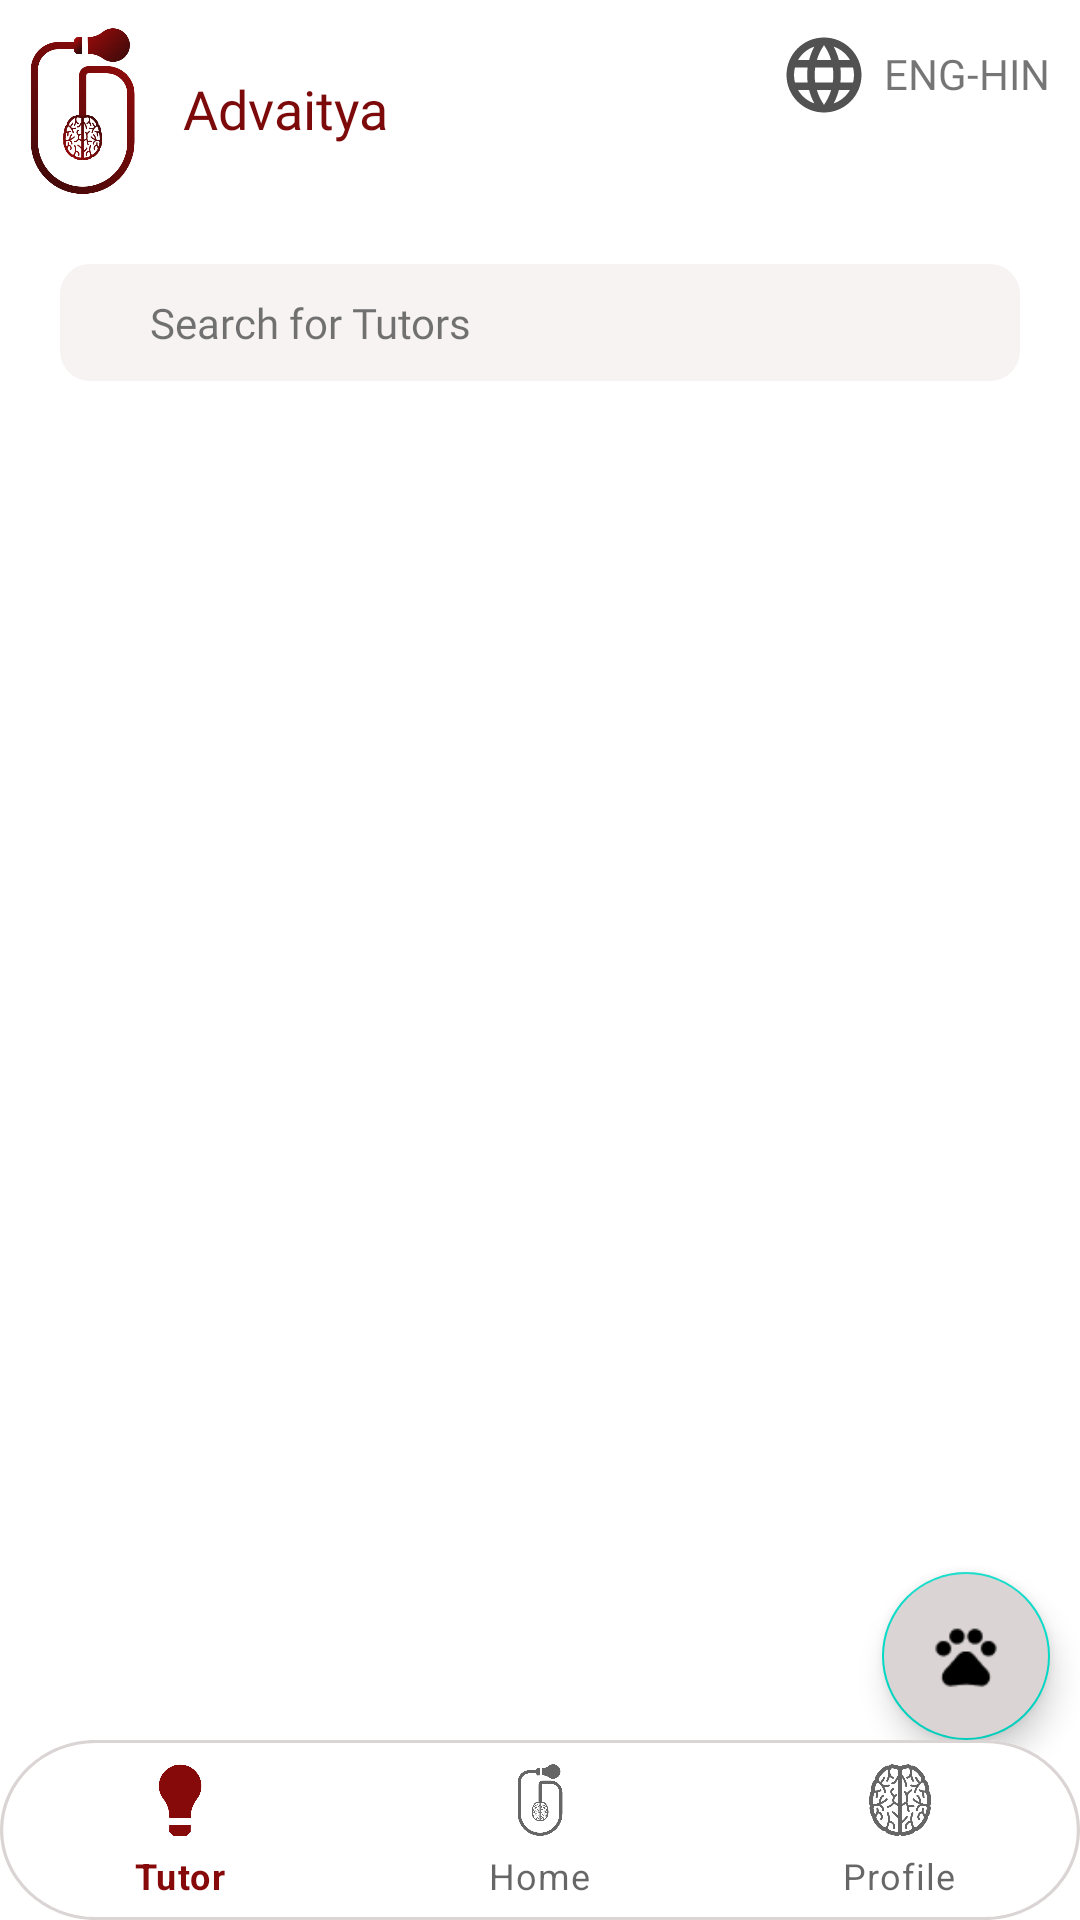

Screen size 1080 x 1920. Icon name, then its center in pixels as point (x, y):
pets: point (966, 1656)
